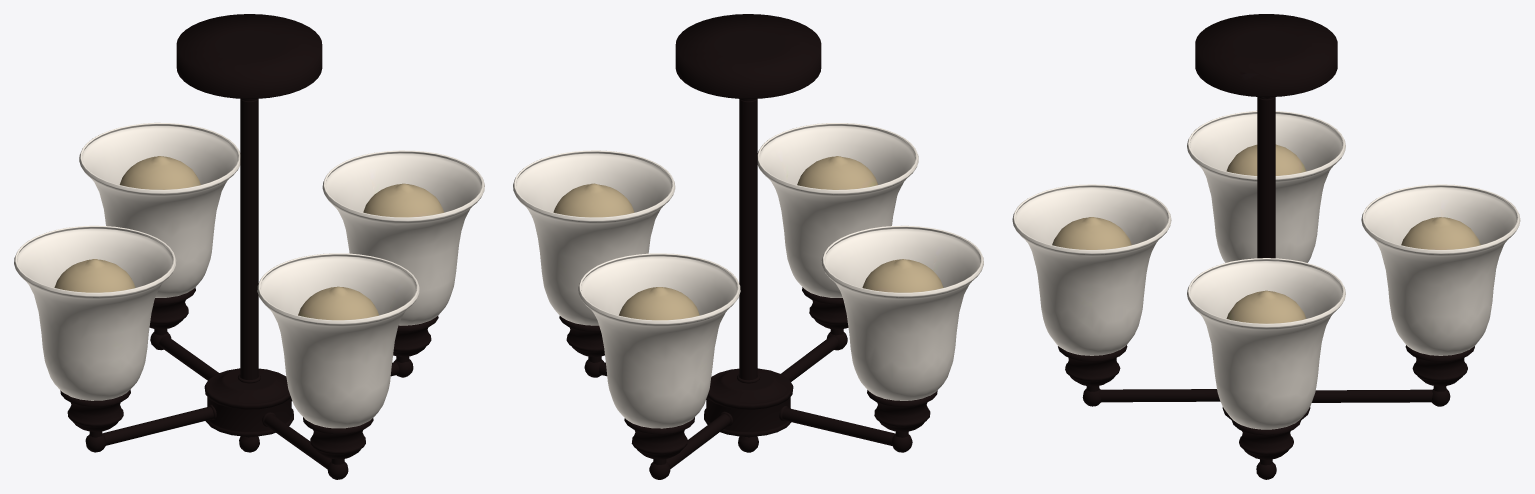
File: abo-B07ML7NZQG.glb
3 views of the same model, side by side, from view 1: azimuth 30°, elevation 25°; view 2: azimuth 150°, elevation 25°; view 3: azimuth 270°, elevation 25° (orthographic). The views are drawn at different scales.
Bounding box in the file's own units: 1.07 × 0.925 × 1.07.
1 material, 1 textured.
